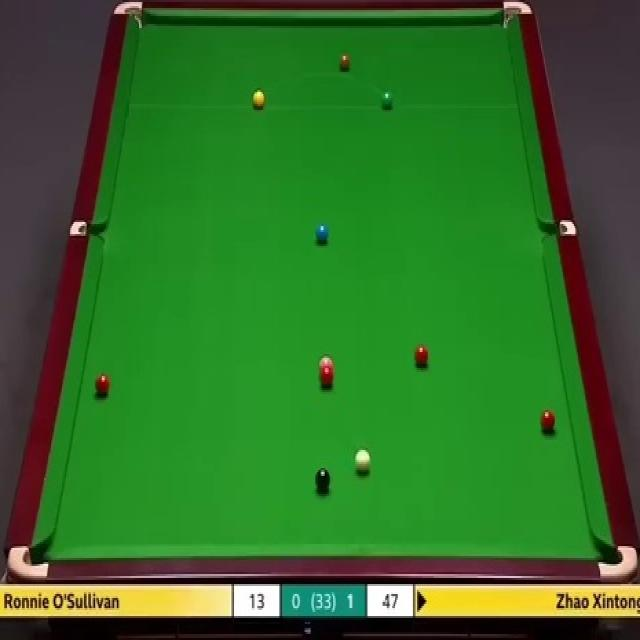black-ball: (313, 466, 332, 492)
blue-ball: (316, 225, 327, 245)
brown-ball: (336, 53, 352, 73)
green-ball: (380, 89, 393, 110)
pink-ball: (318, 356, 331, 376)
red-ball: (539, 408, 555, 435), (93, 376, 110, 398), (414, 345, 428, 367), (320, 370, 333, 392)
white-ball: (353, 448, 372, 477)
yellow-ball: (251, 89, 265, 110)
